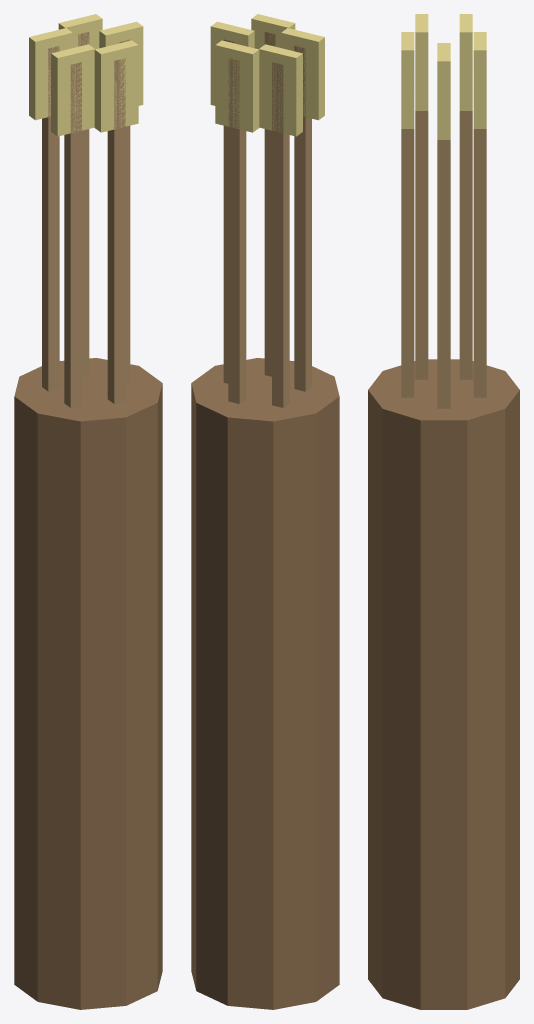
The model's file is quiver.glb.
The picture shows the model from 3 angles, left to right: view 1: azimuth 30°, elevation 25°; view 2: azimuth 150°, elevation 25°; view 3: azimuth 270°, elevation 25°; orthographic projection.
Visible parts, largest first — view 1: Quiver; view 2: Quiver; view 3: Quiver.
Part boxes in pixels (x1,y1,x2,y2): Quiver: (14, 14, 162, 1009); Quiver: (191, 14, 339, 1009); Quiver: (368, 14, 519, 1009).
Size of the model in its own units: 0.1331 by 0.96 by 0.14.
